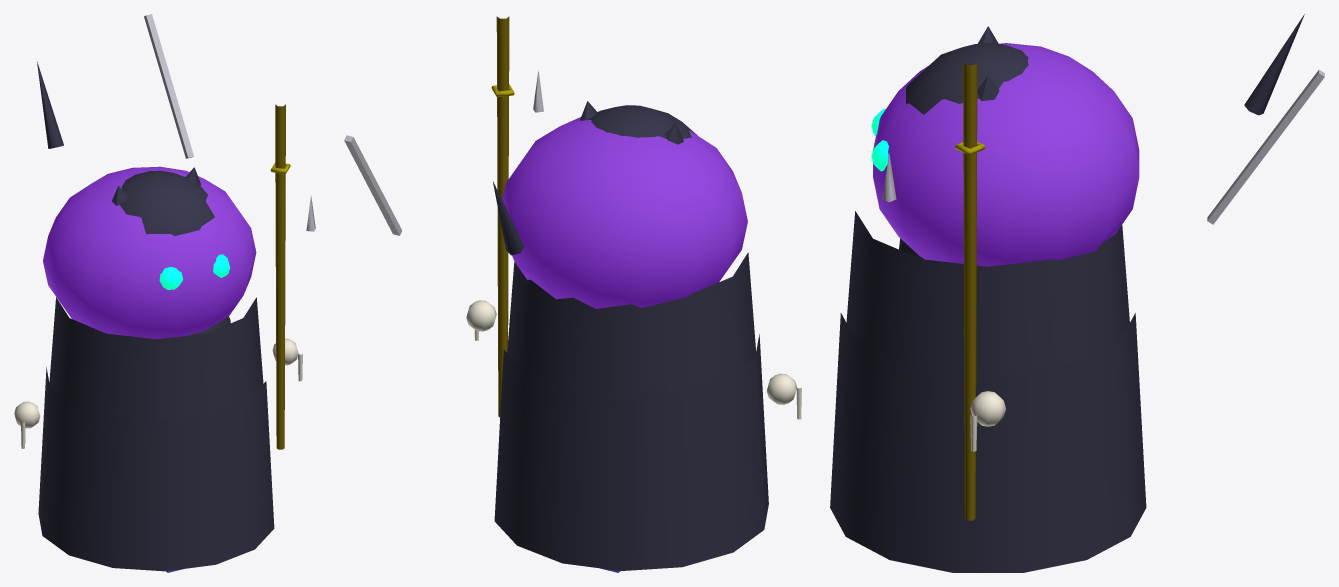
Rendered from cat-grim-reaper.glb.
3 views of the same model, side by side, from view 1: azimuth 30°, elevation 25°; view 2: azimuth 150°, elevation 25°; view 3: azimuth 270°, elevation 25° (orthographic). The views are drawn at different scales.
Visible parts, largest first — view 1: robe-bot, hood, robe-top, head, scythe-pole, scythe-bl-main, hood-tip, hand--1, eye-l; view 2: robe-bot, hood, robe-top, scythe-pole, head, scythe-bl-main, hood-tip, hand-1, hand--1; view 3: robe-bot, hood, robe-top, scythe-pole, head, scythe-bl-main, hood-tip, hand-1.
Part boxes in pixels (left/top/right/bottom): robe-bot: left=38, top=367, right=274, bottom=571; hood: left=43, top=166, right=256, bottom=339; robe-top: left=49, top=297, right=263, bottom=420; head: left=119, top=170, right=214, bottom=235; scythe-pole: left=275, top=104, right=285, bottom=449; scythe-bl-main: left=144, top=14, right=193, bottom=158; hood-tip: left=37, top=61, right=63, bottom=148; hand--1: left=14, top=401, right=40, bottom=428; eye-l: left=159, top=267, right=183, bottom=289; robe-bot: left=494, top=334, right=768, bottom=570; hood: left=502, top=117, right=747, bottom=308; robe-top: left=507, top=252, right=756, bottom=395; scythe-pole: left=496, top=16, right=509, bottom=417; head: left=587, top=105, right=697, bottom=138; scythe-bl-main: left=344, top=135, right=402, bottom=235; hood-tip: left=493, top=181, right=524, bottom=255; hand-1: left=466, top=300, right=496, bottom=331; hand--1: left=767, top=373, right=796, bottom=404; robe-bot: left=830, top=313, right=1146, bottom=572; hood: left=873, top=43, right=1139, bottom=266; robe-top: left=846, top=211, right=1129, bottom=372; scythe-pole: left=963, top=62, right=977, bottom=520; head: left=906, top=43, right=1028, bottom=114; scythe-bl-main: left=1207, top=70, right=1324, bottom=224; hood-tip: left=1244, top=14, right=1304, bottom=115; hand-1: left=970, top=391, right=1005, bottom=426.
Bounding box in the file's own units: 2.4 × 3.47 × 2.75.
